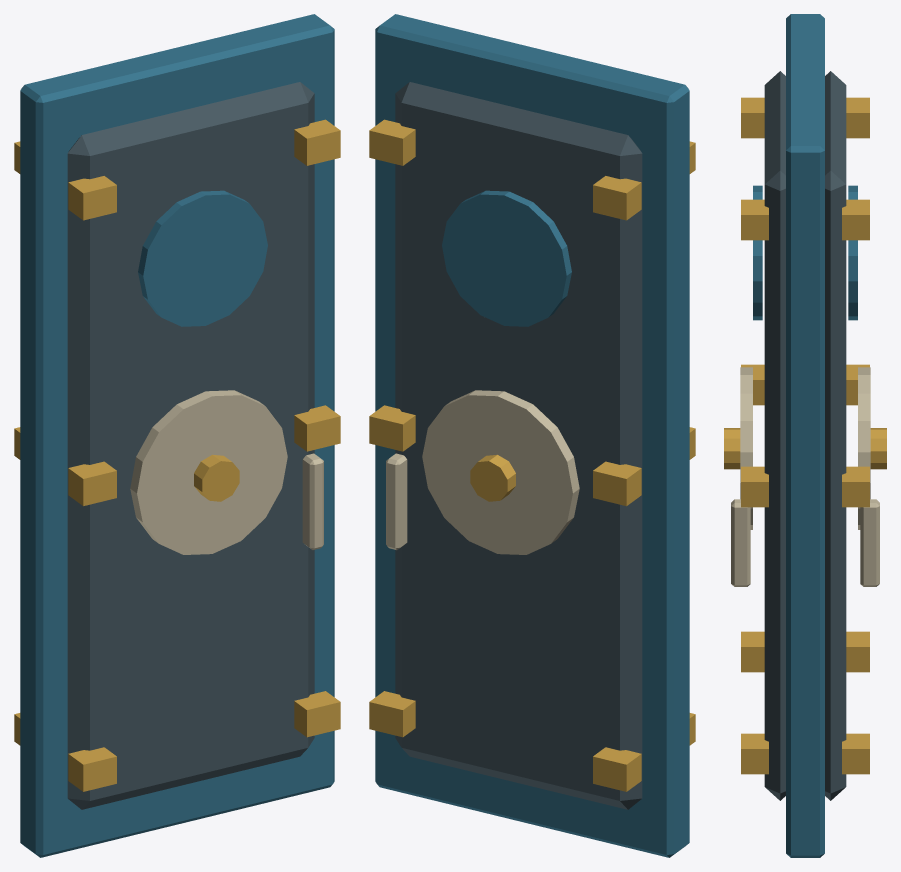
The model's file is door_submarine.glb.
3 views of the same model, side by side, from view 1: azimuth 30°, elevation 25°; view 2: azimuth 150°, elevation 25°; view 3: azimuth 270°, elevation 25° (orthographic). The views are drawn at different scales.
Visible parts, largest first — view 1: door_submarine; view 2: door_submarine; view 3: door_submarine.
Part boxes in pixels (box(x1,y1,x2,y2)): door_submarine: box(14, 14, 340, 857); door_submarine: box(369, 14, 695, 857); door_submarine: box(724, 14, 886, 857).
Bounding box in the file's own units: 1.15 × 2.8 × 0.58.
